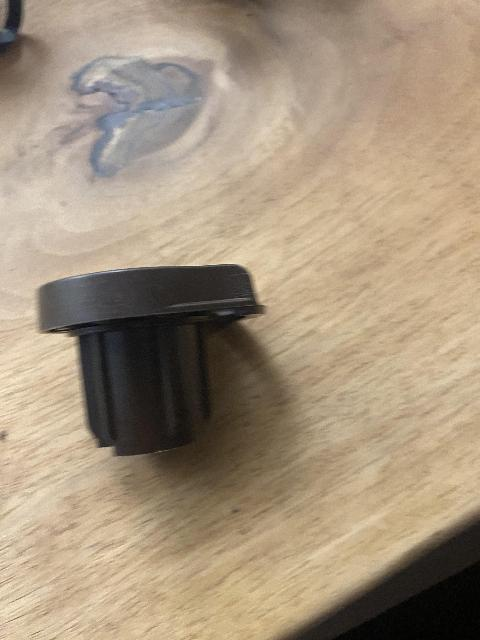Plastik: (33, 268, 273, 457)
